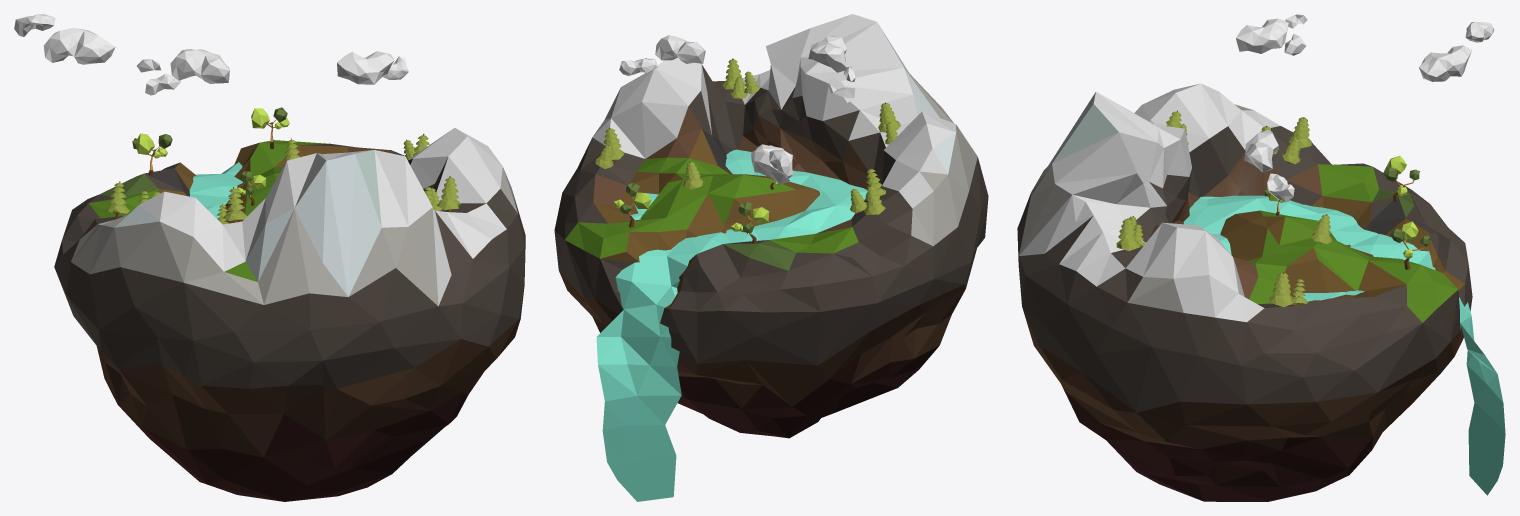
File: Island 2.glb
The picture shows the model from 3 angles, left to right: view 1: azimuth 30°, elevation 25°; view 2: azimuth 150°, elevation 25°; view 3: azimuth 270°, elevation 25°; orthographic projection. The views are drawn at different scales.
Visible parts, largest first — view 1: Icosphere, Icosphere.002, Plane, Cube.003, Cube.001; view 2: Icosphere, Plane, Icosphere.002, Cube.003, Cube.001; view 3: Icosphere, Plane, Icosphere.002, Cube.001, Cube.003, Plane.009.
Boxes of the visible parts, box(x1,y1,x2,y2) form: Icosphere: box(54, 128, 525, 501); Icosphere.002: box(14, 14, 408, 95); Plane: box(189, 162, 243, 220); Cube.003: box(132, 133, 172, 176); Cube.001: box(251, 107, 289, 148); Icosphere: box(554, 14, 988, 438); Plane: box(596, 149, 867, 501); Icosphere.002: box(619, 35, 855, 184); Cube.003: box(731, 202, 769, 243); Cube.001: box(614, 182, 651, 227); Icosphere: box(1017, 83, 1472, 501); Plane: box(1183, 195, 1505, 495); Icosphere.002: box(1236, 14, 1494, 202); Cube.001: box(1390, 221, 1430, 269); Cube.003: box(1383, 155, 1420, 201); Plane.009: box(1269, 272, 1293, 307).
Bounding box in the file's own units: 93.86 × 96.78 × 100.
